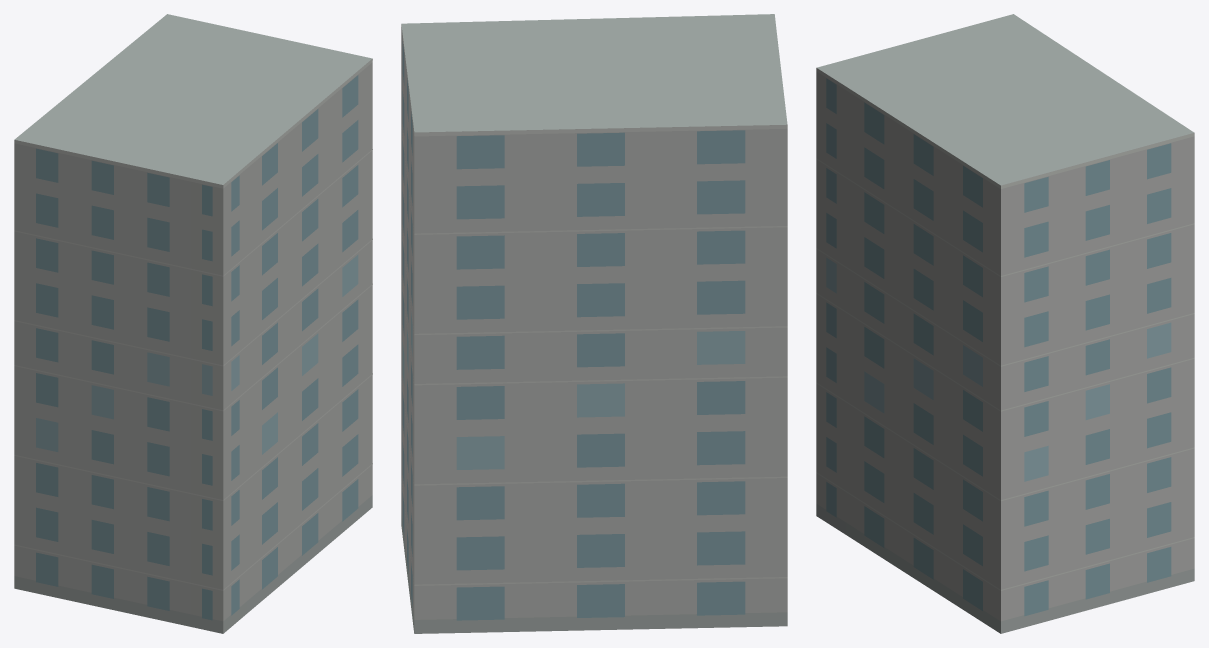
File: survey-upis-32727244.glb
The picture shows the model from 3 angles, left to right: view 1: azimuth 30°, elevation 25°; view 2: azimuth 150°, elevation 25°; view 3: azimuth 270°, elevation 25°; orthographic projection. The views are drawn at different scales.
Visible parts, largest first — view 1: survey-upis-32727244.tmp; view 2: survey-upis-32727244.tmp; view 3: survey-upis-32727244.tmp.
Boxes of the visible parts, <box> form: survey-upis-32727244.tmp: <box>14,14,372,633</box>; survey-upis-32727244.tmp: <box>401,14,787,633</box>; survey-upis-32727244.tmp: <box>816,14,1194,633</box>.
Size of the model in its own units: 25.05 by 30.5 by 23.33.
